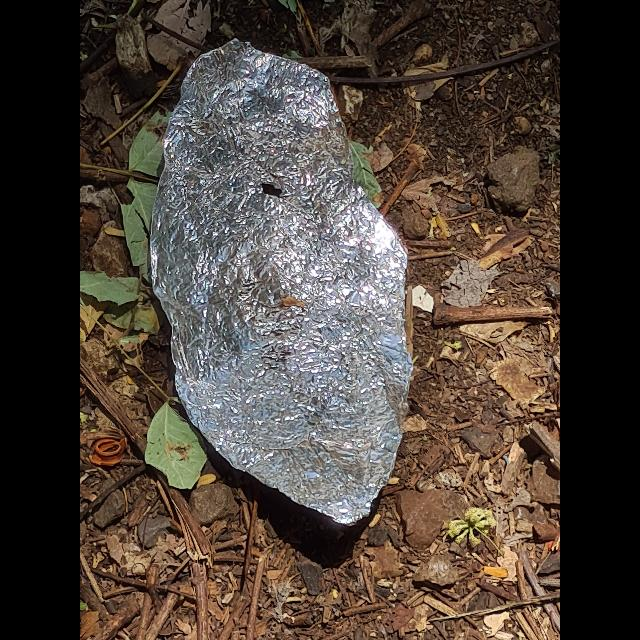trash: (148, 38, 414, 528)
